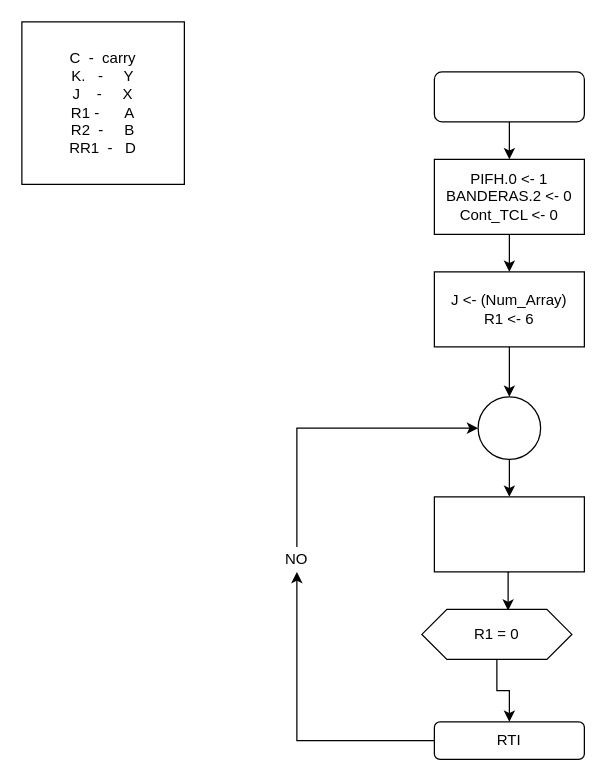
Image size: 606x781. Some labels were removed from this diagram. Each missing label, with the centre of its shape:
PHO_ISR: (508,96)
R1 <- (R1) -1 ((J) + (A)) <- $FF: (508,534)
